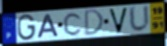A: (35, 13, 60, 39)
C: (63, 12, 84, 37)
D: (84, 8, 105, 37)
G: (17, 14, 37, 42)
U: (128, 4, 152, 34)
V: (107, 7, 130, 35)
